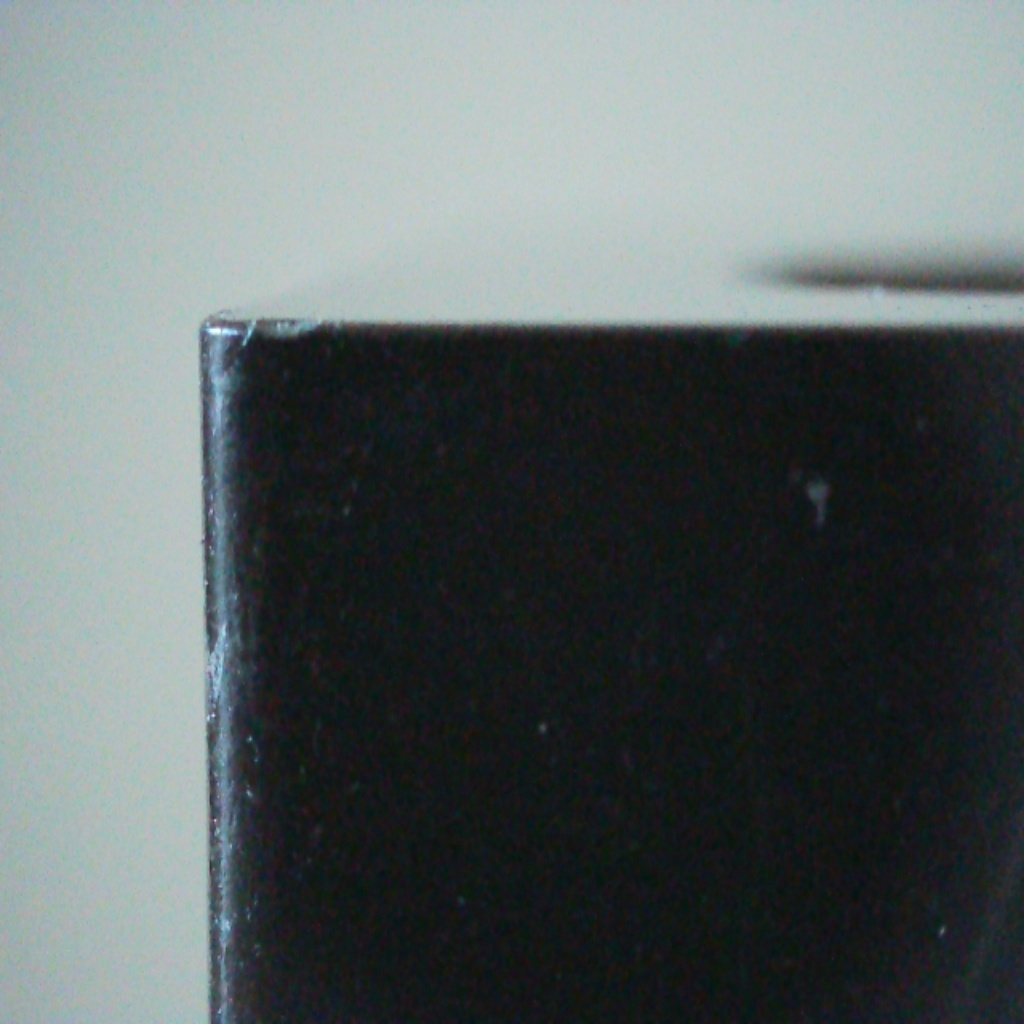flank_wear: (246, 313, 335, 343)
